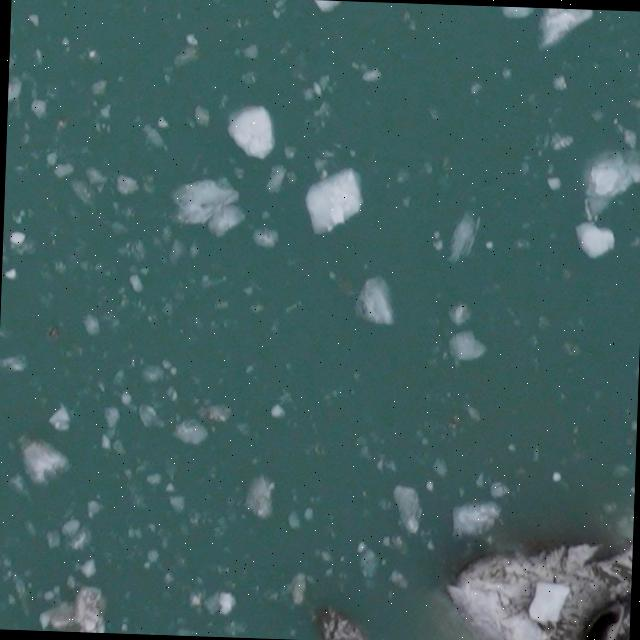seal: (576, 586, 631, 640), (615, 629, 629, 640)
